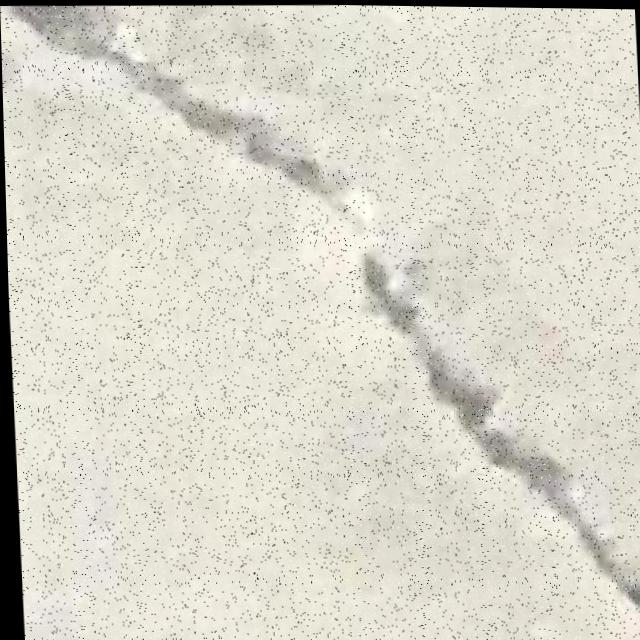Crack: (10, 0, 640, 634)
